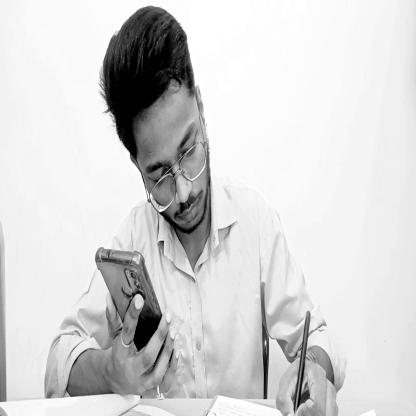Distracted: (103, 12, 215, 241)
